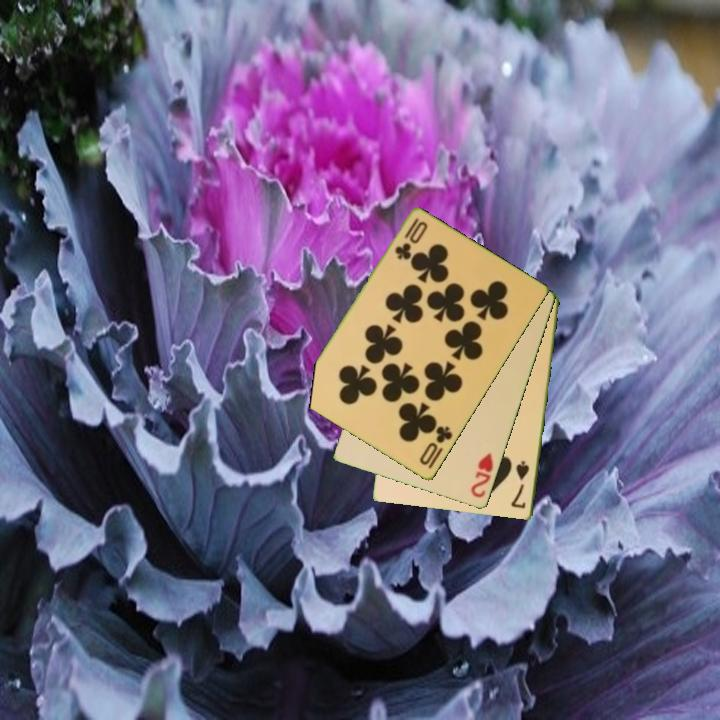10c: (416, 423, 456, 469), (391, 214, 422, 263)
2h: (467, 449, 496, 501)
7s: (508, 458, 533, 512)
